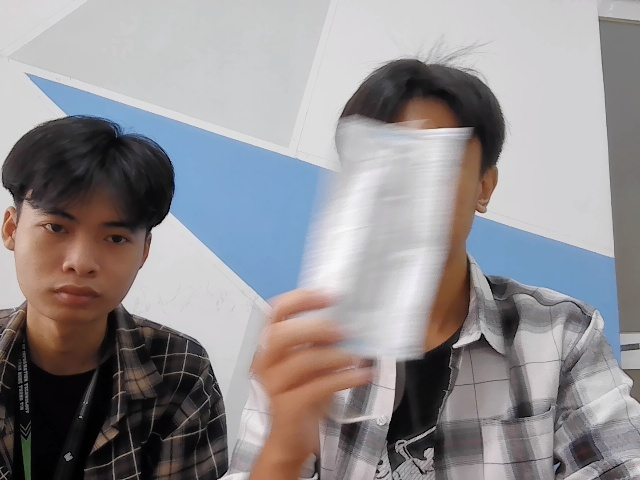human: (11, 120, 162, 322)
mask: (314, 107, 453, 362)
